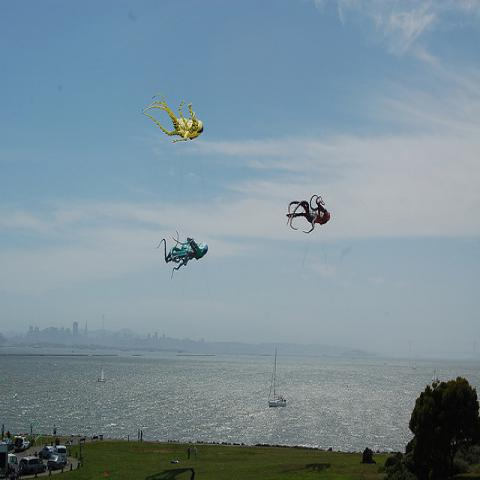car: (19, 456, 47, 475), (47, 453, 65, 471), (14, 436, 31, 451), (54, 445, 66, 463), (8, 454, 19, 472), (39, 446, 53, 458), (1, 439, 13, 445)
truck: (0, 442, 18, 477), (14, 437, 30, 449)
